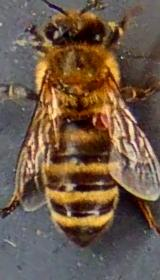varroa_mite: (90, 108, 113, 128)
